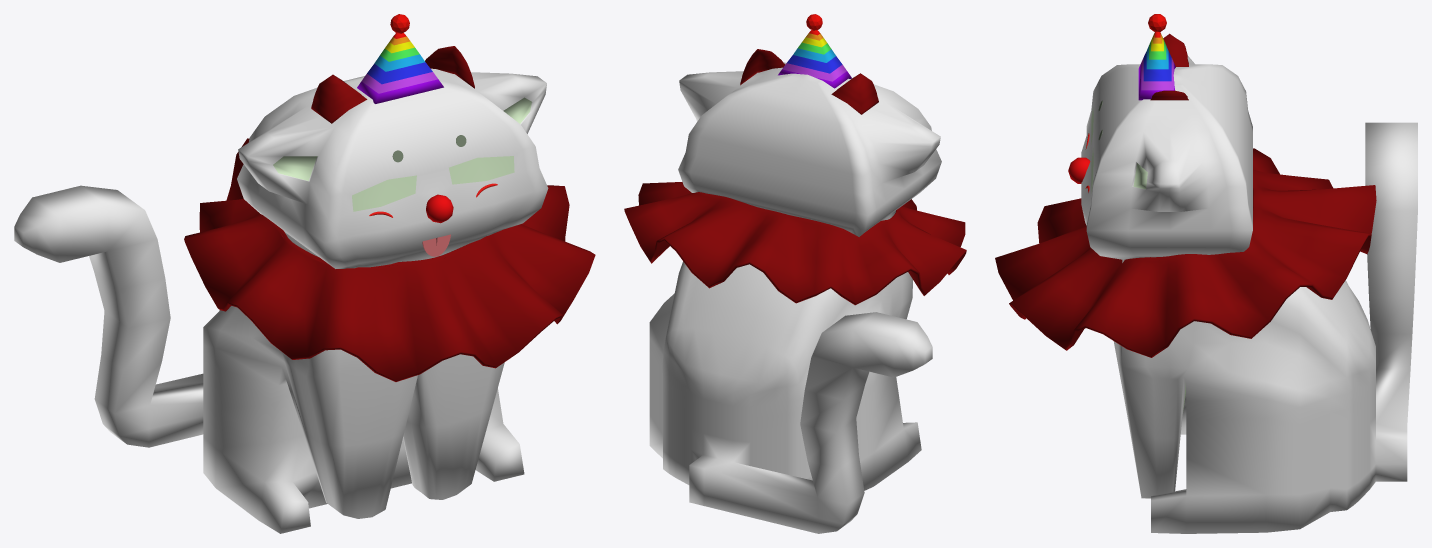
Rendered from ClownCat.fbx.
3 renders of one model, left to right at view 1: azimuth 30°, elevation 25°; view 2: azimuth 150°, elevation 25°; view 3: azimuth 270°, elevation 25°, orthographic. The views are drawn at different scales.
Parts seen in each view (by area): view 1: Cube, Cylinder, Cube.003, Cube.001, Cube.002; view 2: Cube, Cylinder, Cube.003, Cube.001, Cube.002; view 3: Cube, Cylinder, Cube.003, Cube.001.
Boxes of the visible parts, left/top/right/bottom form: Cube: left=14, top=68, right=548, bottom=533; Cylinder: left=184, top=138, right=595, bottom=381; Cube.003: left=357, top=14, right=443, bottom=103; Cube.001: left=311, top=74, right=367, bottom=123; Cube.002: left=425, top=46, right=474, bottom=88; Cube: left=649, top=62, right=941, bottom=533; Cylinder: left=624, top=182, right=966, bottom=305; Cube.003: left=778, top=14, right=851, bottom=88; Cube.001: left=831, top=73, right=878, bottom=114; Cube.002: left=740, top=49, right=785, bottom=85; Cube: left=1081, top=56, right=1417, bottom=533; Cylinder: left=995, top=148, right=1376, bottom=357; Cube.003: left=1138, top=14, right=1175, bottom=100; Cube.001: left=1163, top=33, right=1188, bottom=66.
Size of the model in its own units: 395 by 416 by 344.
